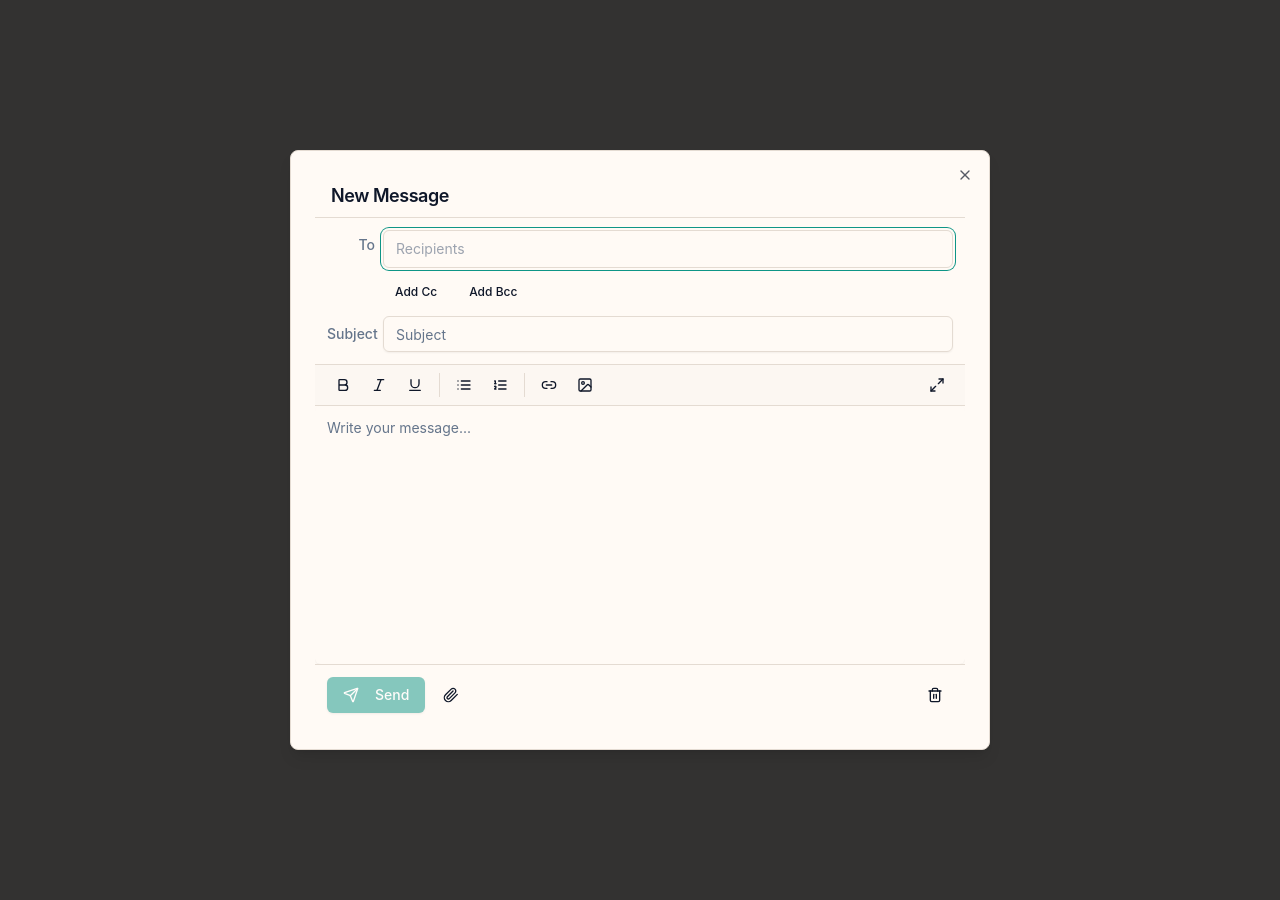
it: MessageComposer › recipient input › should add recipient when Enter is pressed
Type "test@example.com" into the field with placeholder "Recipients".
click(668, 249); type("test@example.com")  # box [396,235,940,263]
Then press Enter
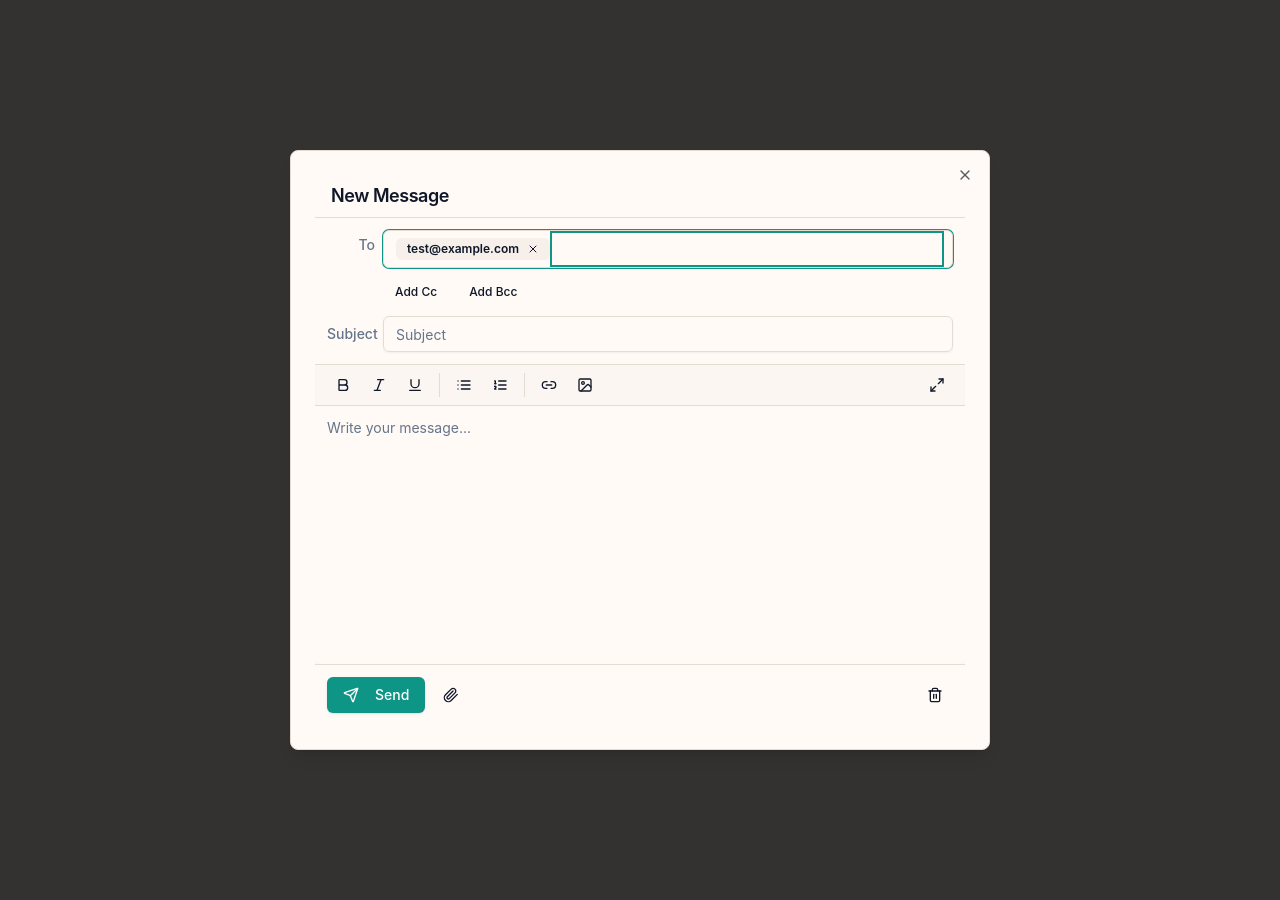
Expected: the text "test@example.com" is shown, [396,238,550,260]
